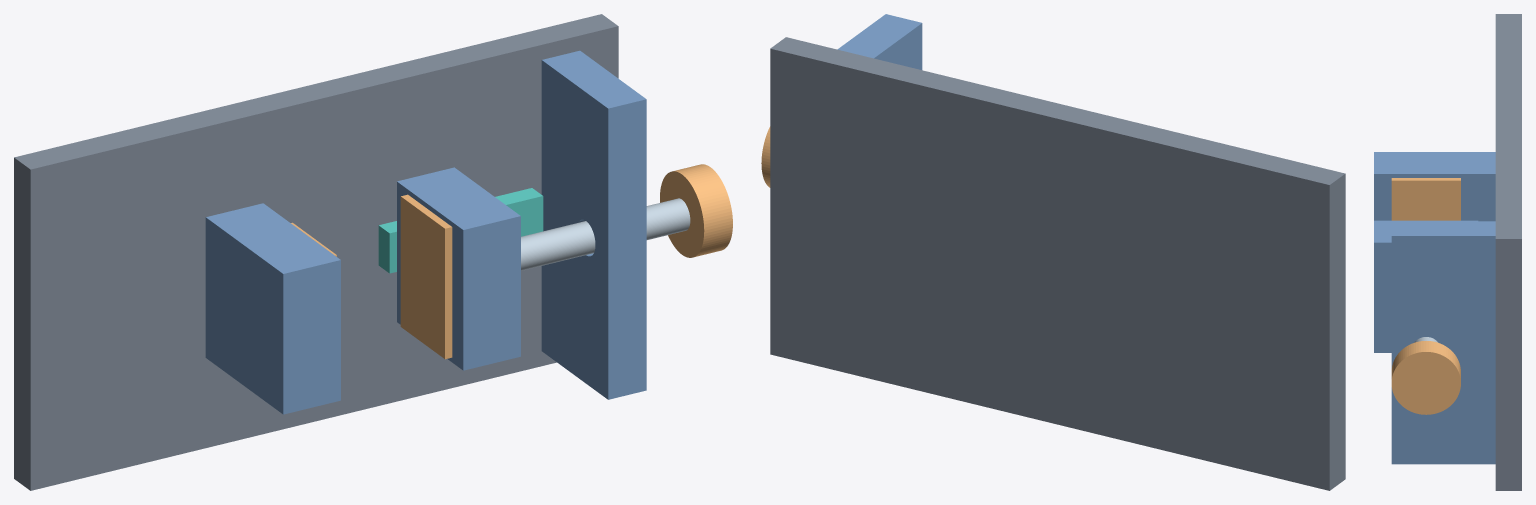
Rendered from assembly.glb.
The picture shows the model from 3 angles, left to right: view 1: azimuth 30°, elevation 25°; view 2: azimuth 150°, elevation 25°; view 3: azimuth 270°, elevation 25°; orthographic projection. The views are drawn at different scales.
Visible parts, largest first — view 1: base, actuator_support, fixed_jaw, moving_jaw, moving_pad, knob, rod, rail_central; view 2: base, actuator_support; view 3: actuator_support, base, fixed_jaw, knob, fixed_pad, moving_jaw.
Boxes of the visible parts, <box> form: base: <box>14,14,618,490</box>; actuator_support: <box>541,50,646,399</box>; fixed_jaw: <box>205,203,340,414</box>; moving_jaw: <box>397,167,520,370</box>; moving_pad: <box>400,194,452,359</box>; knob: <box>660,164,732,257</box>; rod: <box>521,198,690,270</box>; rail_central: <box>378,188,543,273</box>; base: <box>770,37,1345,490</box>; actuator_support: <box>837,14,922,69</box>; actuator_support: <box>1391,221,1495,464</box>; base: <box>1495,14,1521,490</box>; fixed_jaw: <box>1374,152,1495,221</box>; knob: <box>1391,341,1460,414</box>; fixed_pad: <box>1391,178,1460,220</box>; moving_jaw: <box>1374,220,1477,352</box>.
Size of the model in its own units: 0.1569 by 0.0758 by 0.0403.
